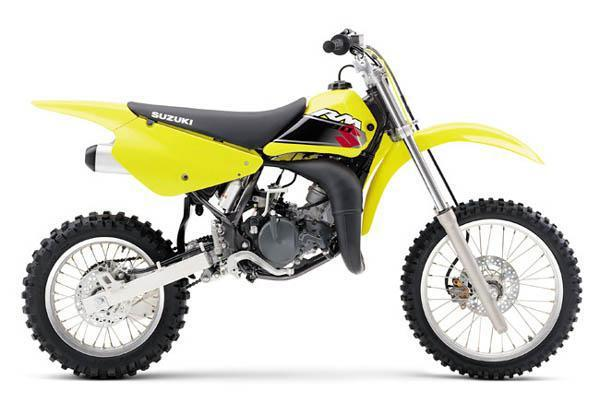motorcycle: (17, 3, 600, 402)
